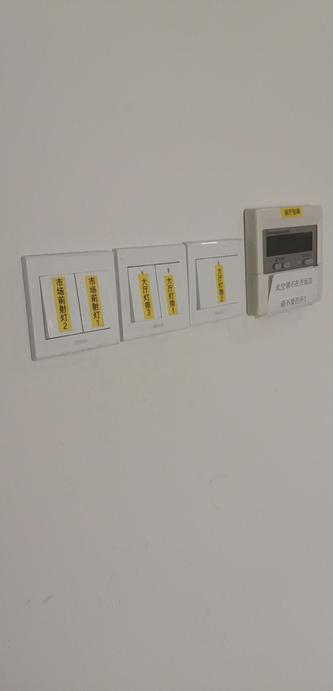switch: (192, 250, 248, 315), (32, 268, 81, 342), (75, 262, 116, 337), (121, 261, 161, 324), (154, 254, 186, 322)
